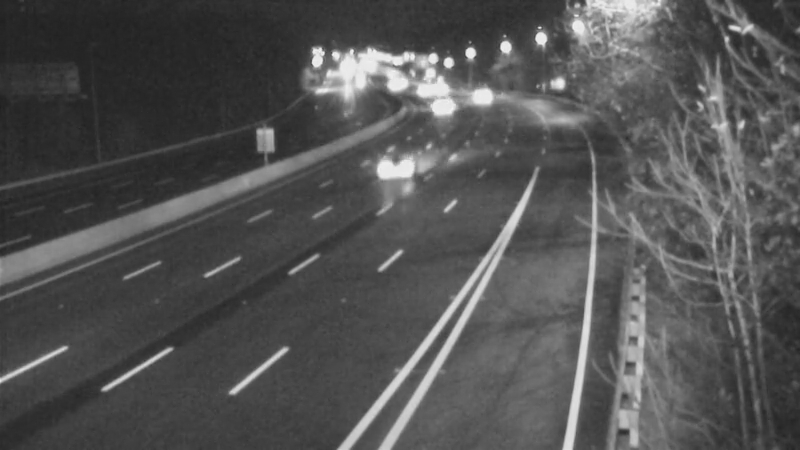vehicle: (348, 136, 428, 216), (395, 64, 445, 114), (418, 63, 468, 113), (455, 76, 505, 126), (417, 80, 467, 130)
